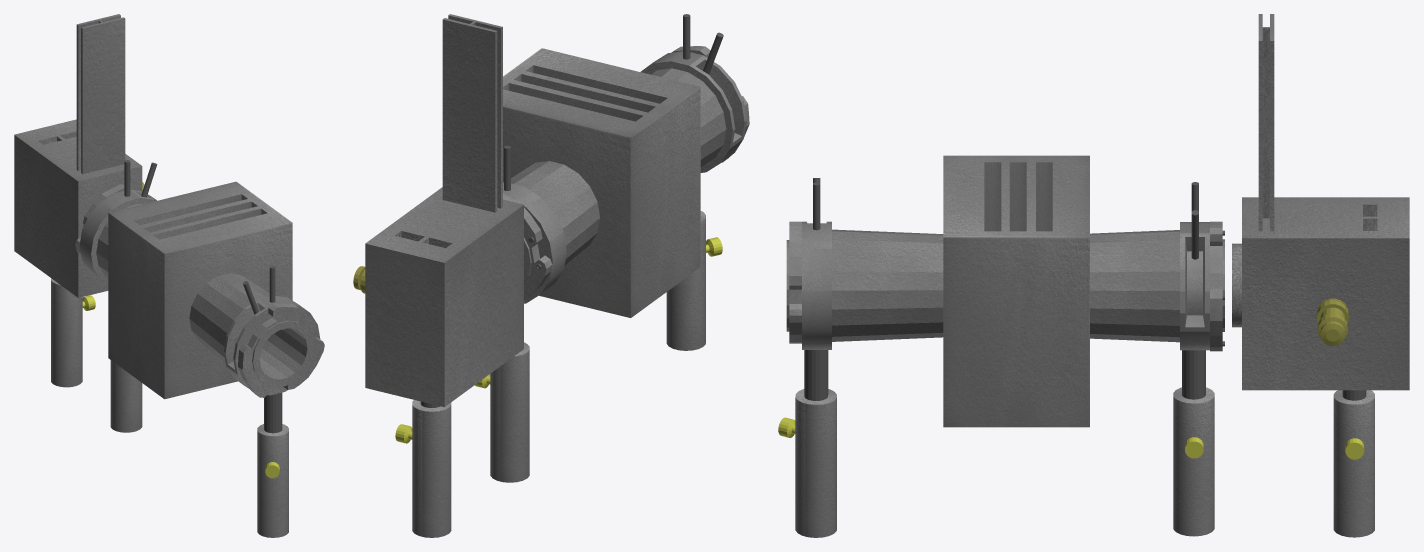
File: Led_system_3_2.glb
3 renders of one model, left to right at view 1: azimuth 30°, elevation 25°; view 2: azimuth 150°, elevation 25°; view 3: azimuth 270°, elevation 25°, orthographic. The views are drawn at different scales.
Visible parts, largest first — view 1: Box012.001, Box011.001, Cylinder069.001, Cylinder356.001, Cylinder352.001, Cylinder059.001, Cylinder354.001, Object015.001; view 2: Box011.001, Box012.001, Cylinder059.001, Cylinder069.001, Cylinder352.001, Cylinder354.001, Cylinder356.001; view 3: Box012.001, Box011.001, Cylinder069.001, Cylinder059.001, Cylinder356.001, Cylinder354.001, Cylinder352.001, Cylinder057.001, Object015.001, Object011.001.
Boxes of the visible parts, bbox=[...] form: Box012.001: bbox=[108, 181, 292, 399]; Box011.001: bbox=[14, 14, 142, 297]; Cylinder069.001: bbox=[189, 273, 324, 397]; Cylinder356.001: bbox=[257, 424, 288, 537]; Cylinder352.001: bbox=[51, 278, 82, 387]; Cylinder059.001: bbox=[75, 184, 156, 284]; Cylinder354.001: bbox=[110, 360, 142, 432]; Object015.001: bbox=[264, 392, 282, 433]; Box011.001: bbox=[365, 14, 523, 407]; Box012.001: bbox=[503, 48, 700, 317]; Cylinder059.001: bbox=[503, 161, 599, 303]; Cylinder069.001: bbox=[640, 46, 749, 172]; Cylinder352.001: bbox=[412, 400, 451, 537]; Cylinder354.001: bbox=[490, 342, 529, 482]; Cylinder356.001: bbox=[666, 211, 705, 350]; Box012.001: bbox=[943, 155, 1089, 427]; Box011.001: bbox=[1232, 14, 1409, 390]; Cylinder069.001: bbox=[786, 221, 943, 349]; Cylinder059.001: bbox=[1090, 221, 1224, 351]; Cylinder356.001: bbox=[795, 389, 836, 537]; Cylinder354.001: bbox=[1173, 387, 1214, 536]; Cylinder352.001: bbox=[1333, 390, 1374, 537]; Cylinder057.001: bbox=[1316, 298, 1348, 345]; Object015.001: bbox=[804, 350, 828, 400]; Object011.001: bbox=[1182, 350, 1205, 399].
Size of the model in its own units: 4.6 by 13.18 by 15.04.
Materials: 4 (1 with a texture image).
